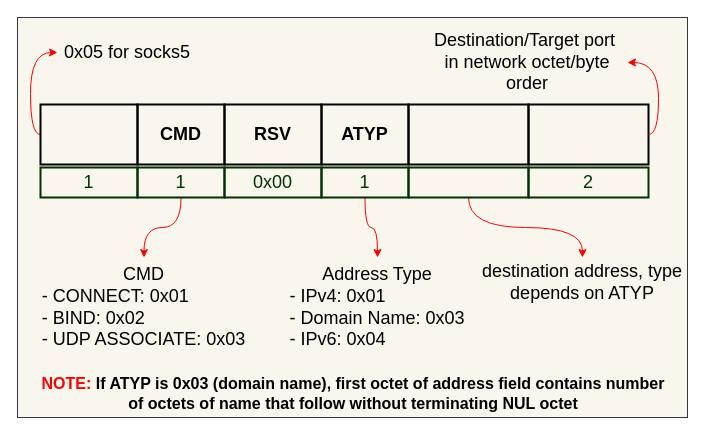
Some shapes in this 705 by 443 pixel diagram are drawn without their labels. The shapes that lost their labels are listed below. From the top down, each one's centre as x and y in pixels, then its label:
(x=88, y=134): VER
(x=468, y=134): DST. ADDR
(x=588, y=134): DST. PORT
(x=468, y=182): Variable
